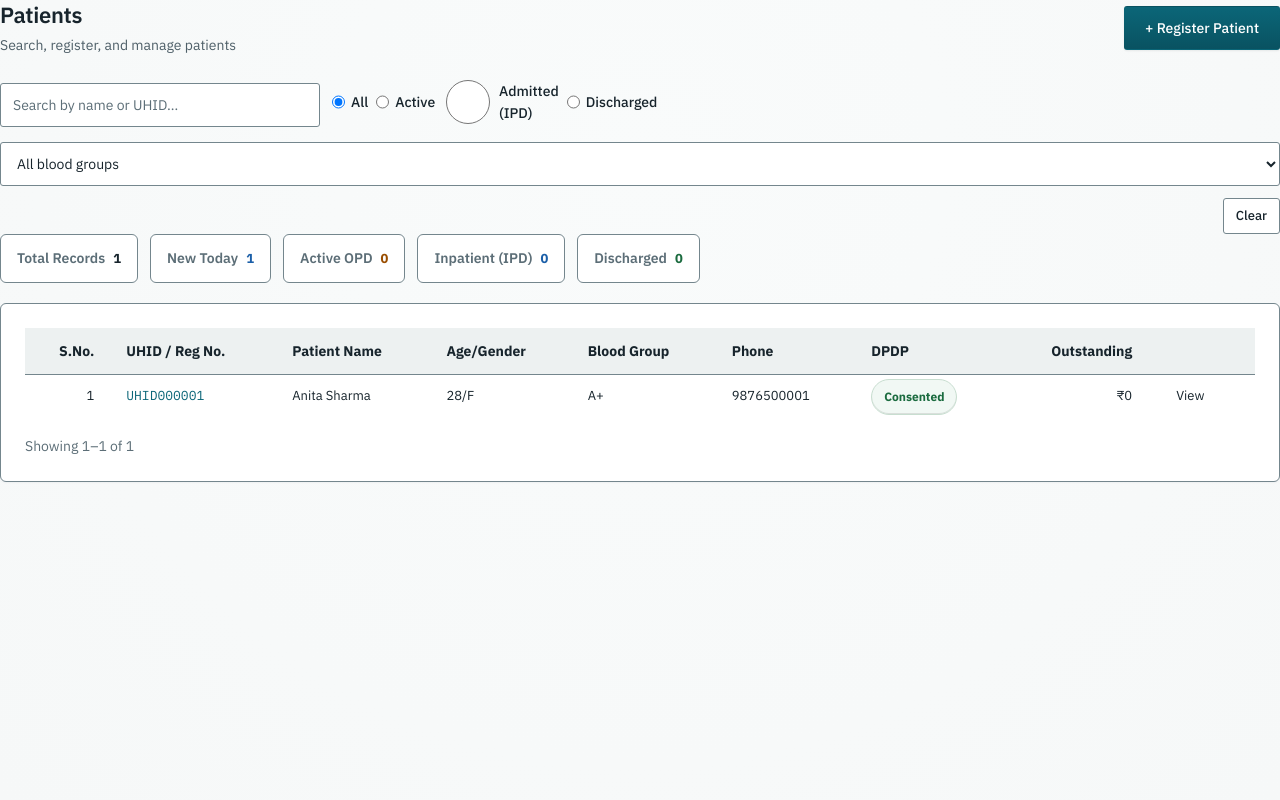
Test: late DPDP consent (issue 114) › withdraws through a confirmation that explains the history is kept
The width and height of the screenshot is (1280, 800).
Click the text "Anita Sharma".
click(353, 396)  # box [276,374,430,418]
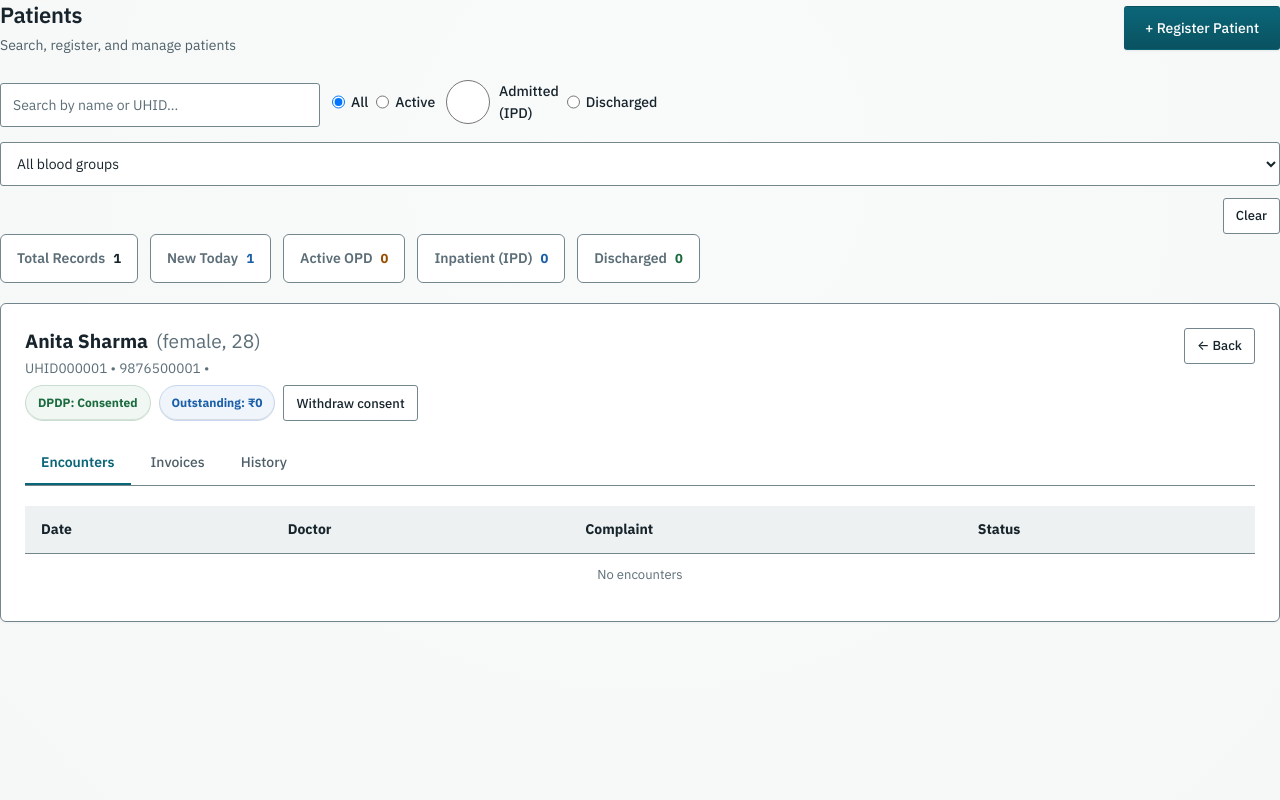
expect the button "← Back" is shown: met, box [1184,328,1255,364]
Click the button "Withdraw consent".
click(350, 403)  # box [283,385,418,421]
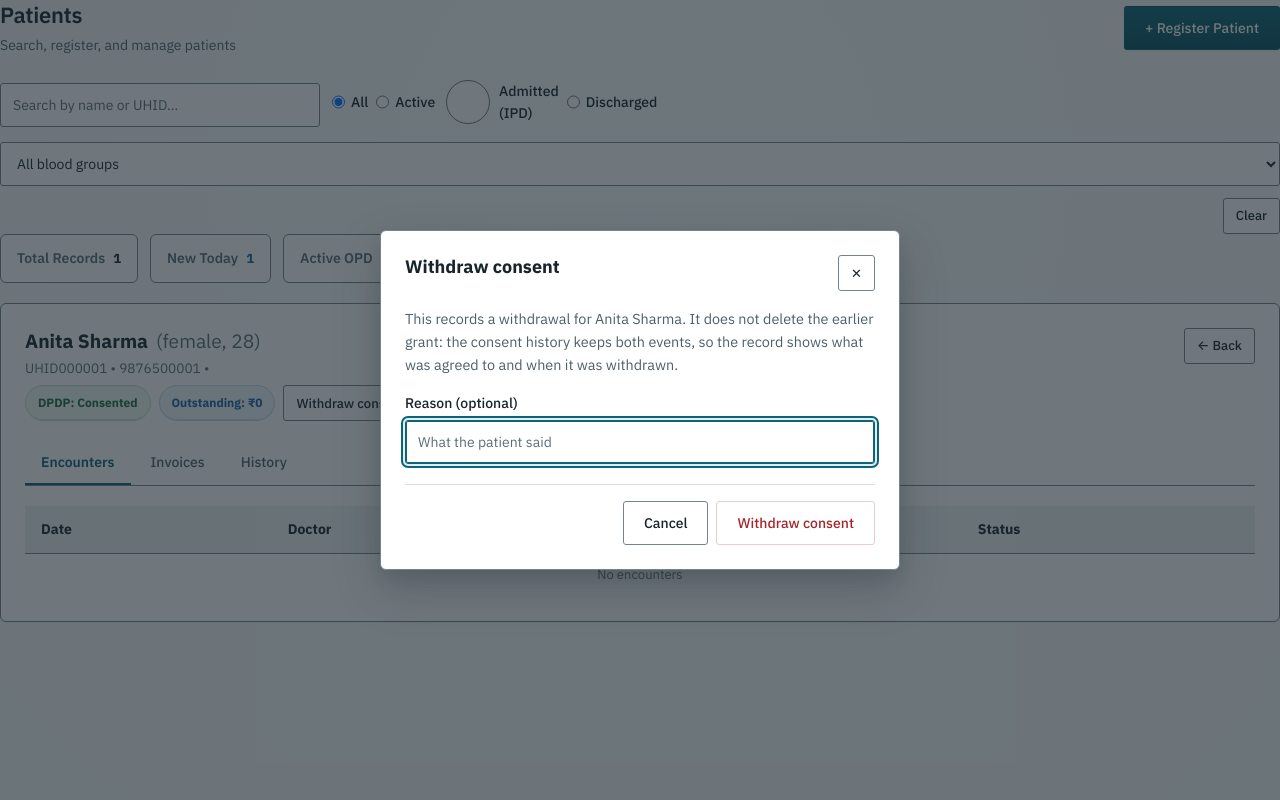
expect the dialog "Withdraw consent" shows "does not delete the earlier grant": met, box [405,309,874,374]
Type "patient asked" into the field labelled "Reason (optional)".
click(640, 442); type("patient asked")  # box [405,420,875,464]
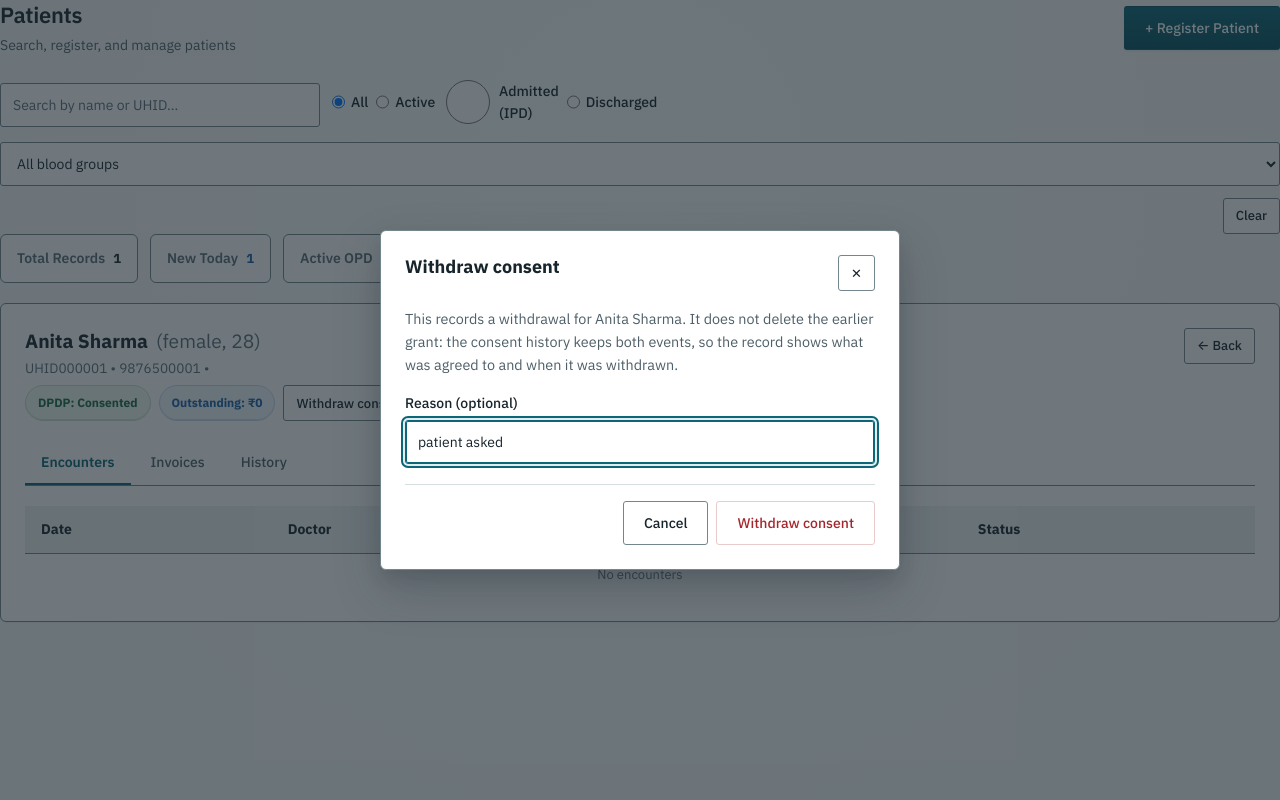
Click the button "Withdraw consent".
click(796, 523)  # box [716,501,875,545]
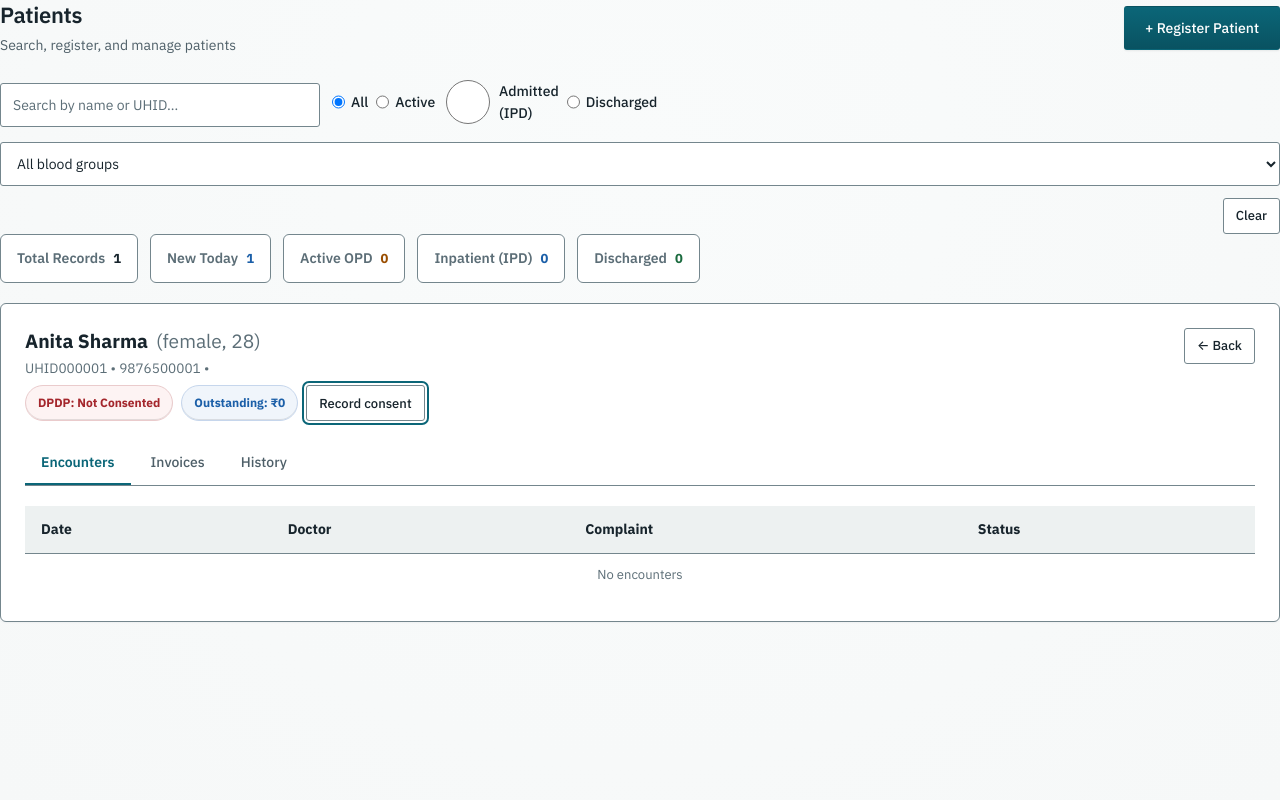
expect the text "DPDP: Not Consented" is shown: met, box [25,385,173,421]
